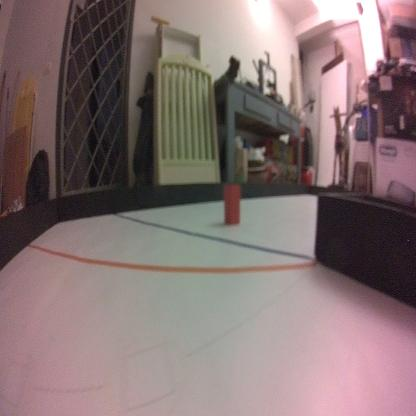red: (222, 183, 241, 226)
